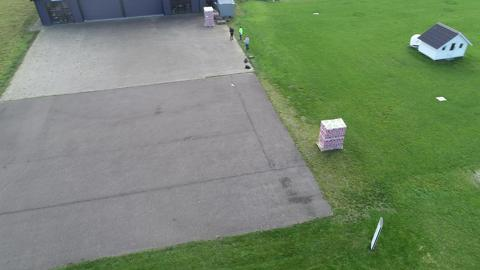RockwoolPallet: (202, 6, 215, 28)
